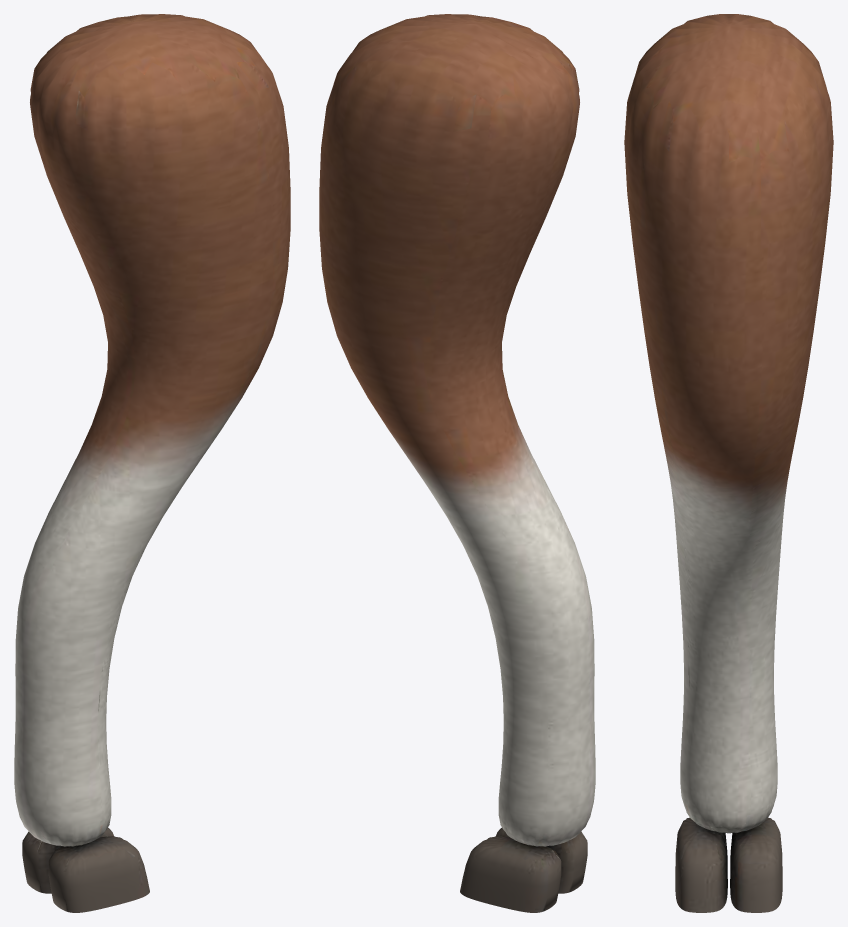
File: cow_leg_hind.glb
3 views of the same model, side by side, from view 1: azimuth 30°, elevation 25°; view 2: azimuth 150°, elevation 25°; view 3: azimuth 270°, elevation 25° (orthographic). The views are drawn at different scales.
Parts seen in each view (by area): view 1: cow_leg_hind; view 2: cow_leg_hind; view 3: cow_leg_hind.
Boxes of the visible parts, x1,y1,x2,y2 form: cow_leg_hind: (14, 14, 290, 912); cow_leg_hind: (319, 14, 595, 912); cow_leg_hind: (624, 14, 833, 912).
Size of the model in its own units: 0.3561 by 1.11 by 0.2369.
Materials: 1 (1 with a texture image).
